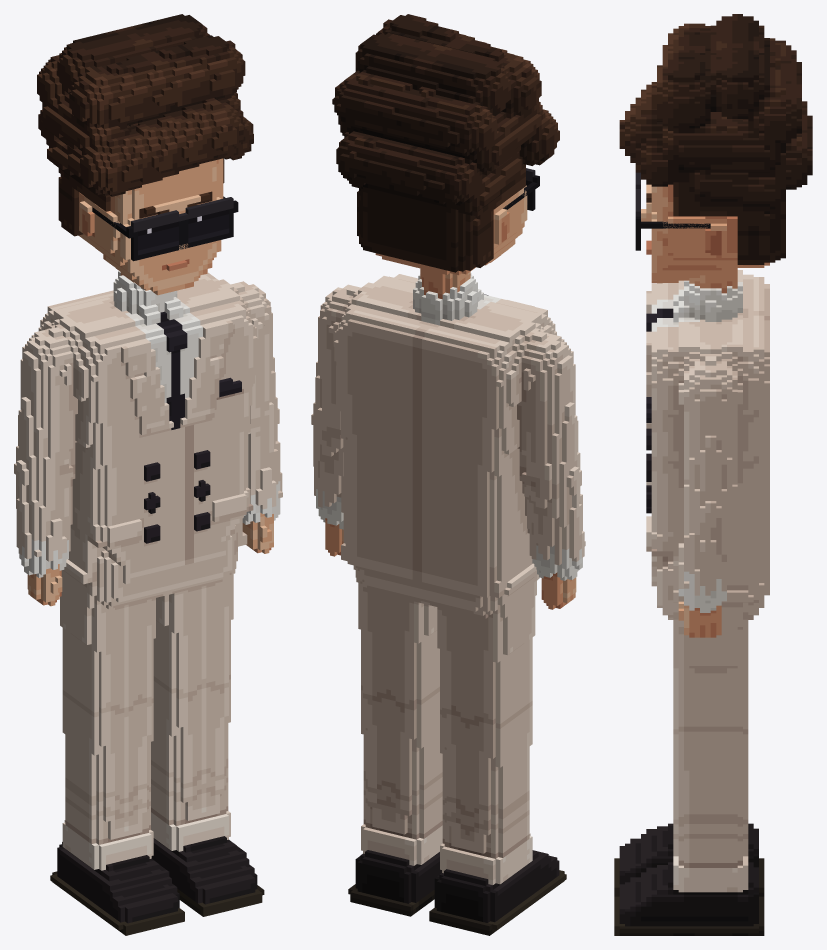
File: player_hd_preview.glb
The picture shows the model from 3 angles, left to right: view 1: azimuth 30°, elevation 25°; view 2: azimuth 150°, elevation 25°; view 3: azimuth 270°, elevation 25°; orthographic projection. The views are drawn at different scales.
Visible parts, largest first — view 1: HD0_torso, HD0_hair, HD0_thigh_R, HD0_shin_R, HD0_thigh_L, HD0_shin_L, HD0_head, HD0_upperarm_R, HD0_foot_R, HD0_foot_L, HD0_forearm_R, HD0_glasses (+5 smaller); view 2: HD0_torso, HD0_hair, HD0_thigh_R, HD0_shin_R, HD0_thigh_L, HD0_shin_L, HD0_upperarm_R, HD0_foot_R, HD0_forearm_R, HD0_foot_L, HD0_upperarm_L, HD0_head (+4 smaller); view 3: HD0_hair, HD0_torso, HD0_thigh_L, HD0_shin_L, HD0_upperarm_L, HD0_foot_L, HD0_head, HD0_forearm_L, HD0_foot_R, HD0_hand_L, HD0_glasses.
Boxes of the visible parts, x1,y1,x2,y2 form: HD0_torso: [38, 271, 257, 602]; HD0_hair: [37, 14, 253, 236]; HD0_thigh_R: [60, 579, 155, 746]; HD0_shin_R: [62, 723, 153, 875]; HD0_thigh_L: [153, 569, 235, 727]; HD0_shin_L: [151, 713, 230, 856]; HD0_head: [78, 158, 223, 295]; HD0_upperarm_R: [16, 328, 77, 469]; HD0_foot_R: [50, 842, 184, 935]; HD0_foot_L: [151, 836, 264, 916]; HD0_forearm_R: [14, 456, 75, 565]; HD0_glasses: [92, 196, 238, 261]; HD0_torso: [333, 273, 556, 612]; HD0_hair: [332, 14, 559, 272]; HD0_thigh_R: [437, 585, 536, 758]; HD0_shin_R: [440, 735, 532, 889]; HD0_thigh_L: [356, 577, 439, 739]; HD0_shin_L: [361, 724, 442, 870]; HD0_upperarm_R: [517, 332, 580, 475]; HD0_foot_R: [429, 850, 566, 935]; HD0_forearm_R: [519, 463, 585, 569]; HD0_foot_L: [348, 853, 441, 916]; HD0_upperarm_L: [313, 284, 360, 424]; HD0_head: [375, 185, 527, 299]; HD0_hair: [619, 14, 812, 264]; HD0_torso: [646, 270, 769, 617]; HD0_thigh_L: [673, 617, 748, 765]; HD0_shin_L: [673, 761, 753, 901]; HD0_upperarm_L: [678, 358, 742, 500]; HD0_foot_L: [614, 862, 764, 935]; HD0_head: [641, 184, 769, 293]; HD0_forearm_L: [678, 496, 737, 600]; HD0_foot_R: [614, 823, 764, 896]; HD0_hand_L: [678, 591, 726, 637]; HD0_glasses: [635, 172, 710, 250].
Size of the model in its own units: 0.56 by 1.76 by 0.37.
